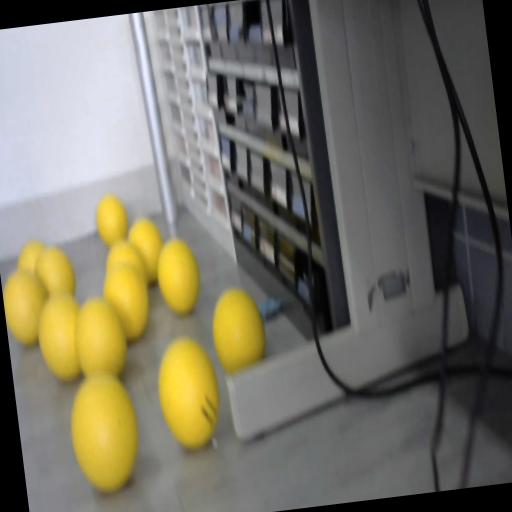FUEL: (62, 368, 146, 494), (150, 332, 226, 451), (207, 284, 270, 376), (33, 292, 90, 384), (100, 258, 154, 344), (0, 264, 53, 350), (153, 235, 205, 317), (126, 216, 168, 285), (32, 242, 80, 302), (94, 192, 132, 248), (103, 238, 139, 266)
